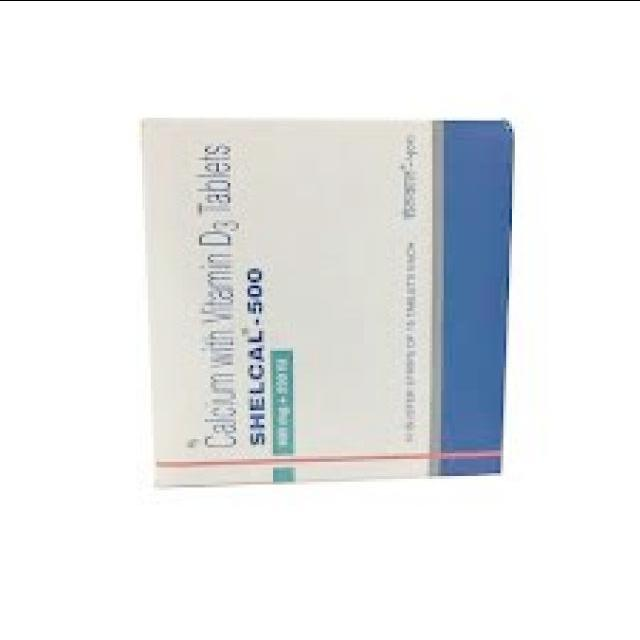authentic: (144, 108, 526, 507)
